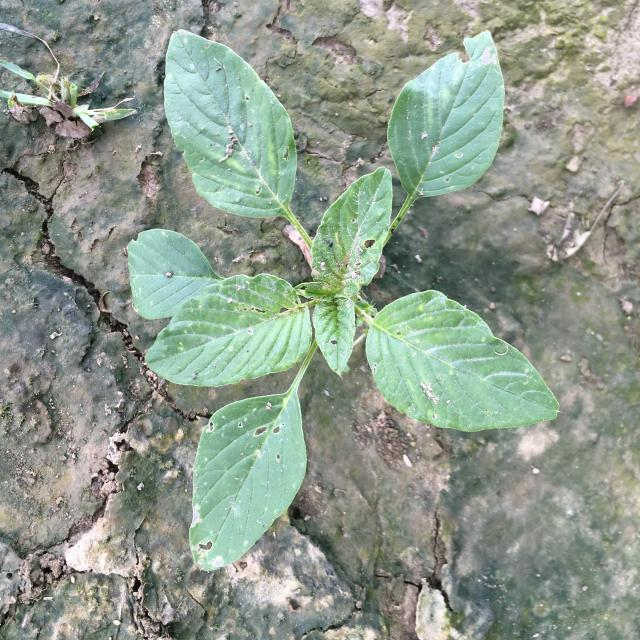PalmerAmaranth: (127, 29, 560, 572)
